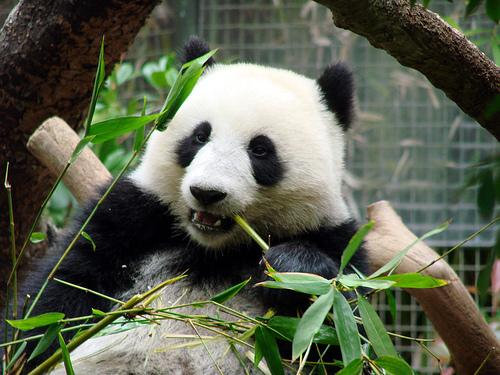panda: (54, 59, 358, 317), (55, 64, 357, 316), (20, 179, 113, 304), (72, 321, 245, 374), (72, 320, 218, 374), (30, 281, 119, 317)
